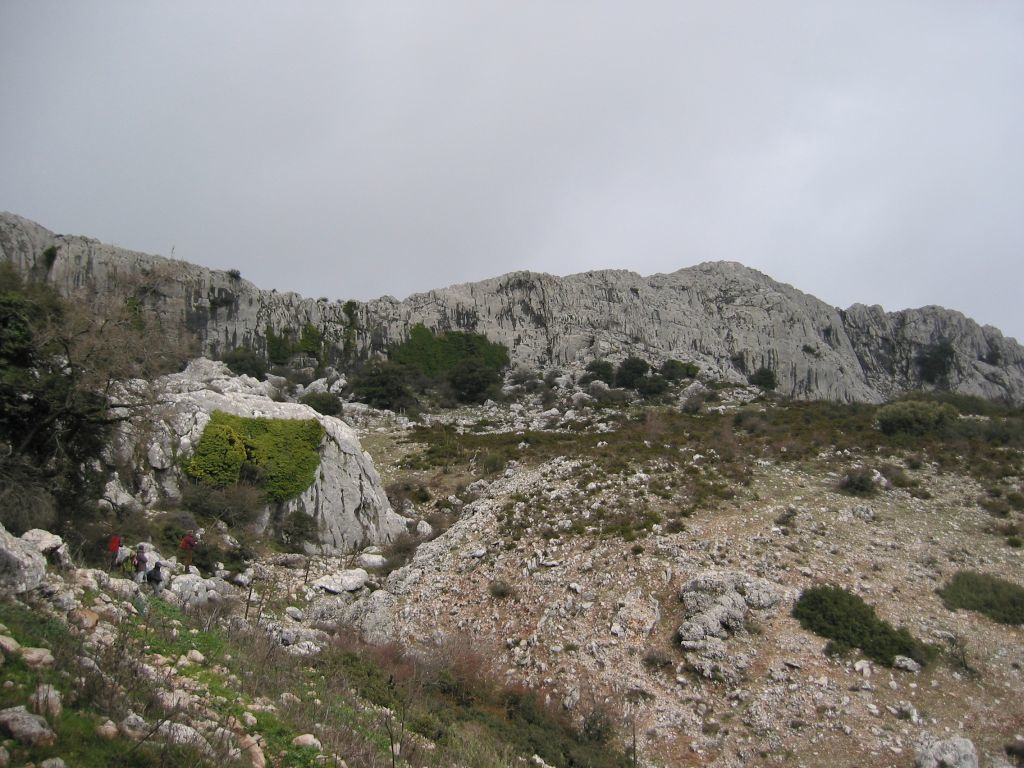Tree: (0, 252, 234, 500), (0, 266, 64, 460), (385, 319, 506, 404), (332, 357, 401, 410), (449, 349, 494, 406)
